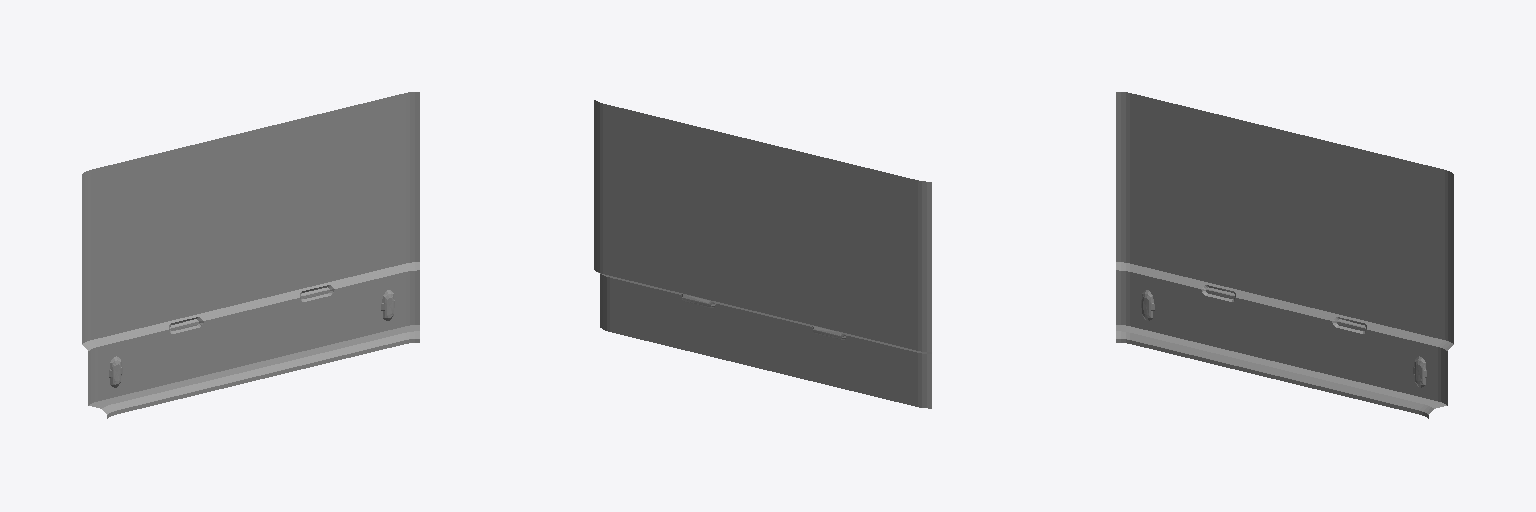
File: SciFiWall01.obj
3 views of the same model, side by side, from view 1: azimuth 30°, elevation 25°; view 2: azimuth 150°, elevation 25°; view 3: azimuth 330°, elevation 25° (orthographic).
Visible parts, largest first — view 1: SciFiWall01_Room01WallsBot_Cube_Cube.005; view 2: SciFiWall01_Room01WallsBot_Cube_Cube.005; view 3: SciFiWall01_Room01WallsBot_Cube_Cube.005.
Part boxes in pixels (left/top/right/bottom): SciFiWall01_Room01WallsBot_Cube_Cube.005: left=82, top=92, right=419, bottom=418; SciFiWall01_Room01WallsBot_Cube_Cube.005: left=594, top=100, right=931, bottom=408; SciFiWall01_Room01WallsBot_Cube_Cube.005: left=1116, top=92, right=1453, bottom=418.
Size of the model in its own units: 6.44 by 4.35 by 0.4825.